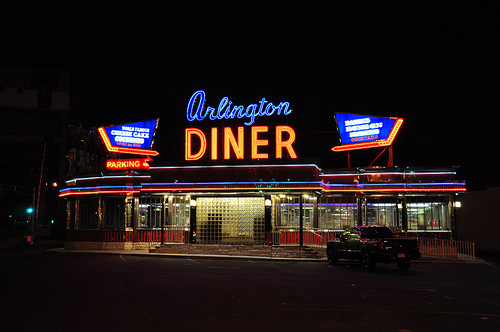car: (324, 225, 423, 273)
